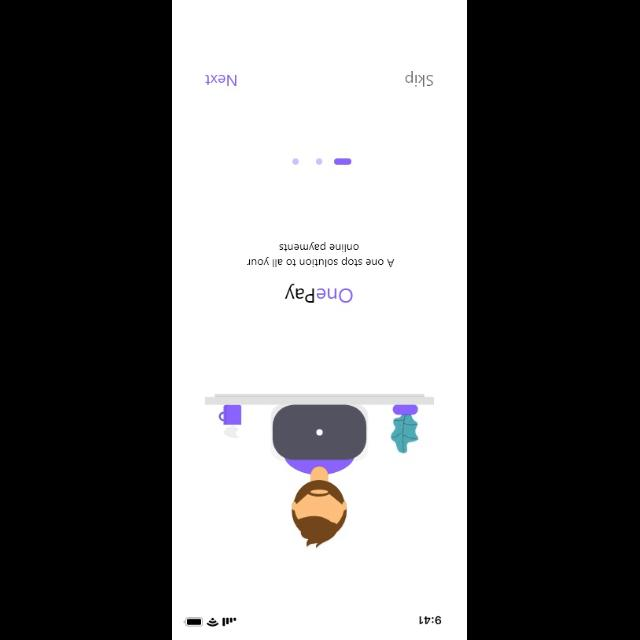image: (205, 392, 435, 548)
pageindicator: (292, 158, 352, 166)
text: (247, 240, 395, 268), (284, 283, 354, 303), (406, 70, 434, 88), (205, 74, 238, 86)
uppertaskbar: (184, 616, 442, 626)
